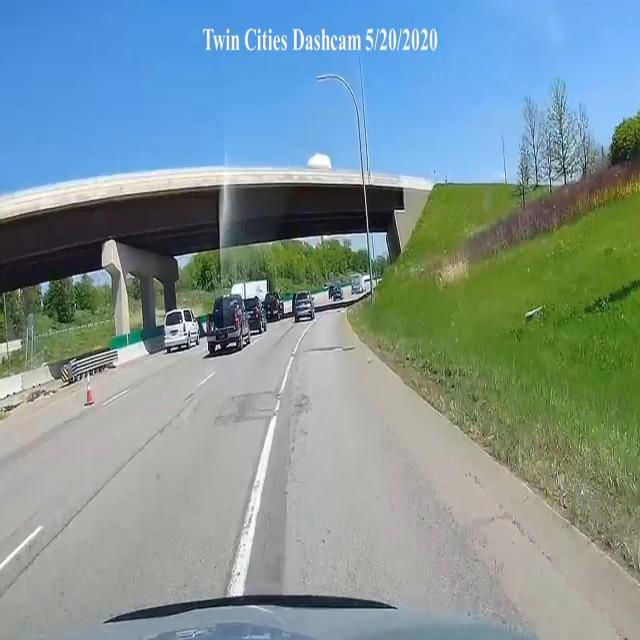cone: (82, 381, 97, 409)
